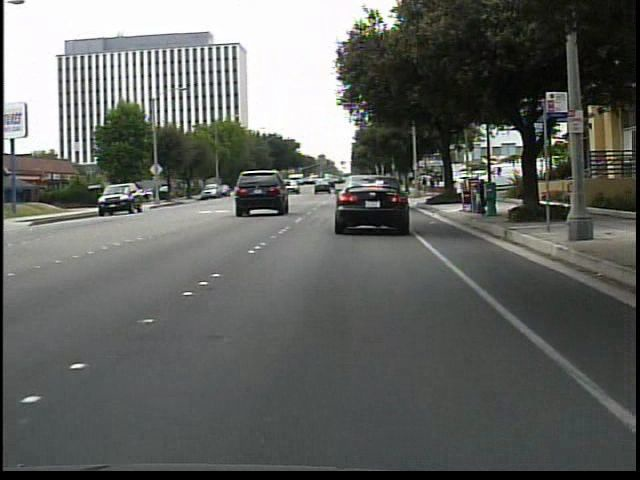person: (420, 173, 430, 194), (428, 174, 437, 194)
